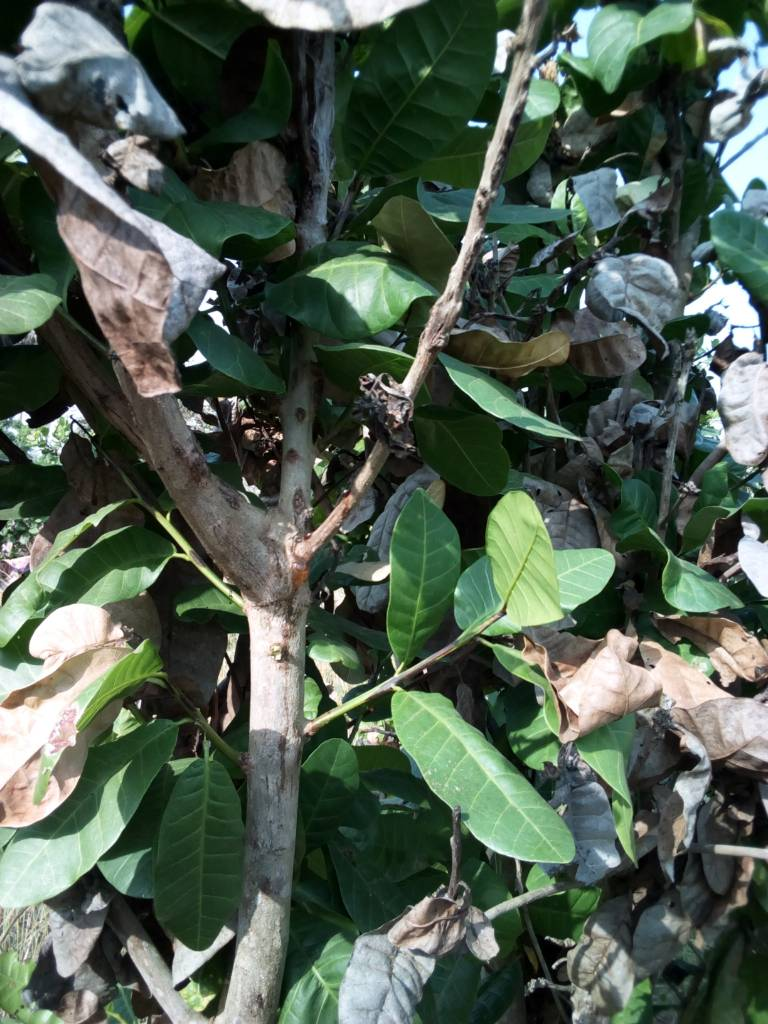Dessèchement des bourgeons: (388, 811, 513, 961), (536, 915, 692, 1013), (465, 235, 523, 332), (366, 363, 415, 452)
